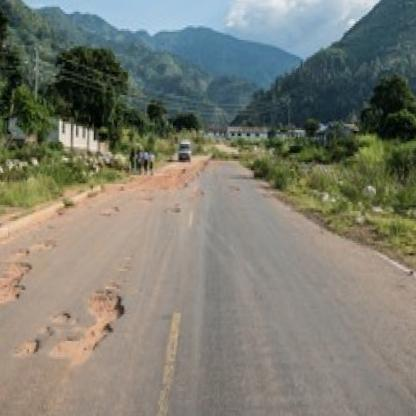pothole: (52, 290, 122, 360), (0, 259, 30, 311), (17, 337, 39, 356), (54, 311, 71, 325), (33, 240, 56, 249), (41, 324, 51, 336), (16, 249, 29, 258), (106, 282, 119, 291)
